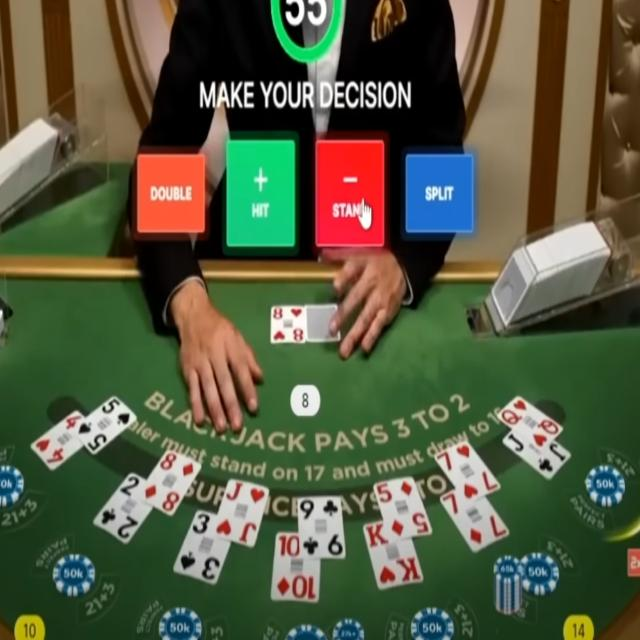Card-10: (271, 532, 320, 602)
Card-2: (93, 471, 152, 544)
Card-3: (175, 508, 230, 585)
Card-4: (31, 409, 85, 471)
Card-5: (71, 394, 137, 455), (373, 476, 433, 543)
Card-7: (440, 488, 510, 554), (434, 440, 501, 506)
Card-8: (137, 448, 201, 517), (271, 305, 305, 343)
Card-9: (298, 495, 345, 558)
Card-J: (211, 477, 269, 548), (502, 430, 572, 480)
Card-K: (364, 521, 424, 590)
Card-Q: (497, 394, 564, 452)
